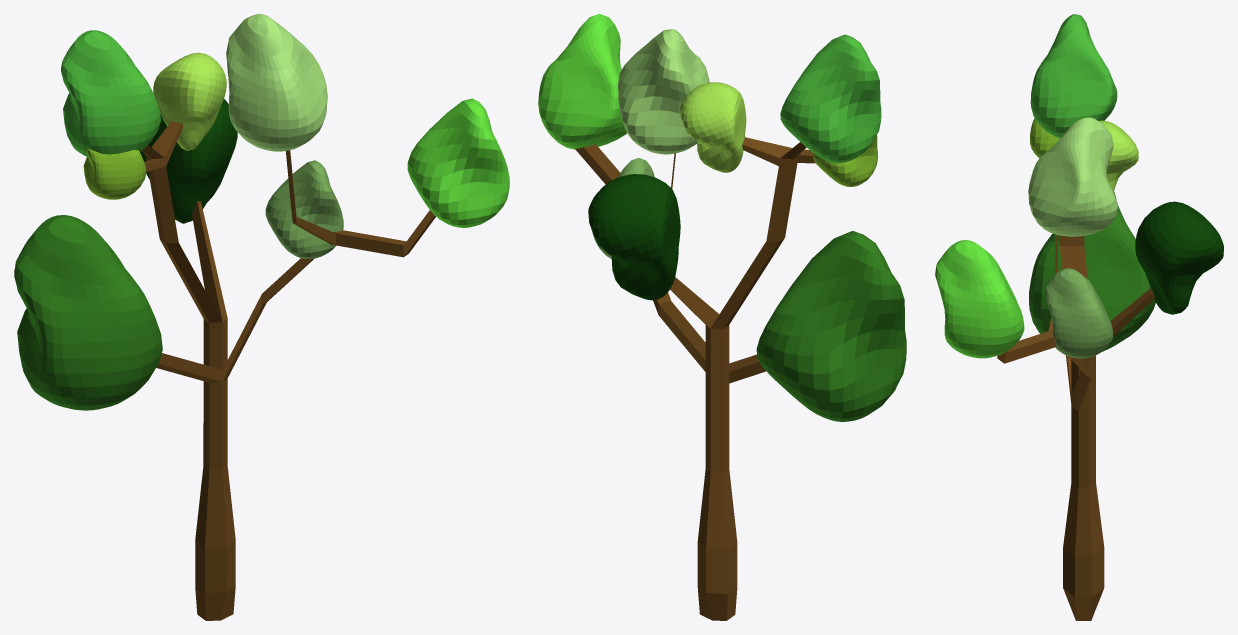
3 views of the same model, side by side, from view 1: azimuth 30°, elevation 25°; view 2: azimuth 150°, elevation 25°; view 3: azimuth 270°, elevation 25° (orthographic). The views are drawn at different scales.
Visible parts, largest first — view 1: Sphere.004, Cube, Sphere, Sphere.002, Sphere.006, Sphere.001, Sphere.003, Sphere.005, Sphere.007; view 2: Sphere.004, Cube, Sphere.002, Sphere.005, Sphere.006, Sphere, Sphere.001, Sphere.007, Sphere.003; view 3: Cube, Sphere, Sphere.006, Sphere.002, Sphere.004, Sphere.005, Sphere.003, Sphere.001, Sphere.007.
Part boxes in pixels (x1,y1,x2,y2): Sphere.004: (14, 215, 162, 410); Cube: (142, 121, 435, 620); Sphere: (226, 14, 327, 151); Sphere.002: (61, 30, 160, 157); Sphere.006: (407, 98, 509, 227); Sphere.001: (153, 52, 226, 150); Sphere.003: (265, 160, 343, 258); Sphere.005: (140, 99, 237, 223); Sphere.007: (83, 148, 146, 199); Sphere.004: (756, 231, 906, 421); Cube: (575, 137, 815, 620); Sphere.002: (780, 34, 881, 162); Sphere.005: (588, 174, 680, 300); Sphere.006: (538, 14, 626, 149); Sphere: (618, 29, 709, 154); Sphere.001: (680, 82, 746, 172); Sphere.007: (813, 135, 877, 186); Sphere.003: (592, 158, 654, 258); Cube: (997, 234, 1154, 620); Sphere: (1028, 117, 1117, 236); Sphere.006: (935, 240, 1024, 358); Sphere.002: (1030, 14, 1117, 138); Sphere.004: (1029, 192, 1155, 351); Sphere.005: (1135, 201, 1223, 314); Sphere.003: (1045, 268, 1113, 358); Sphere.001: (1099, 120, 1138, 192); Sphere.007: (1030, 118, 1059, 158).
Size of the model in its own units: 16.92 by 23.74 by 11.36.
